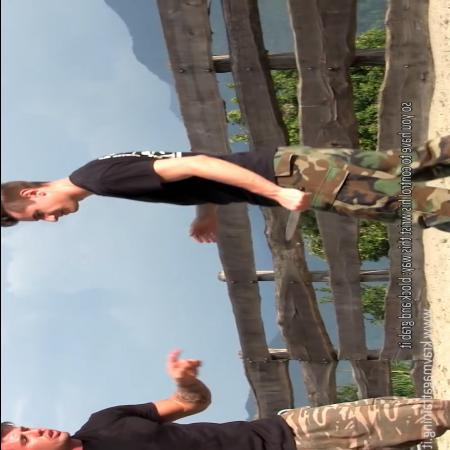long weapon: (278, 186, 317, 246)
